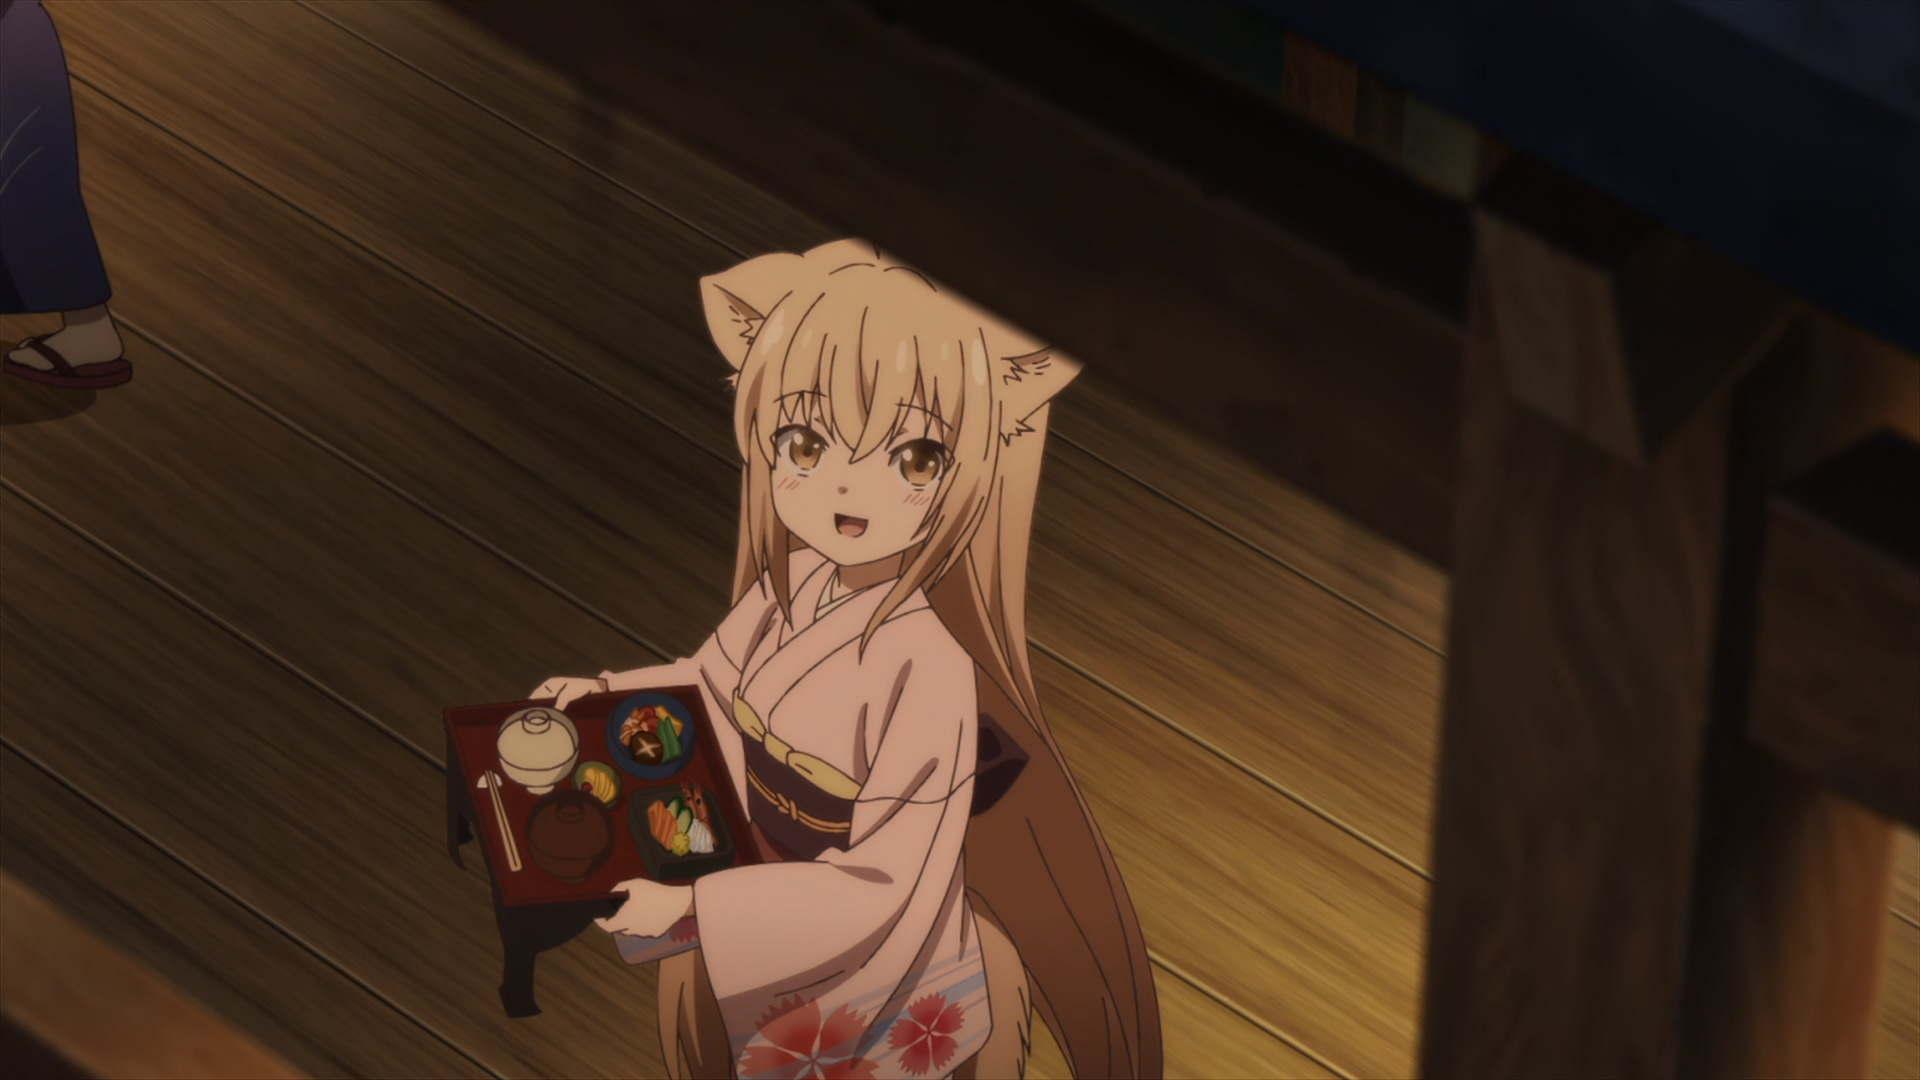其他: (1, 1, 133, 389)
柚: (525, 241, 1160, 1080)
